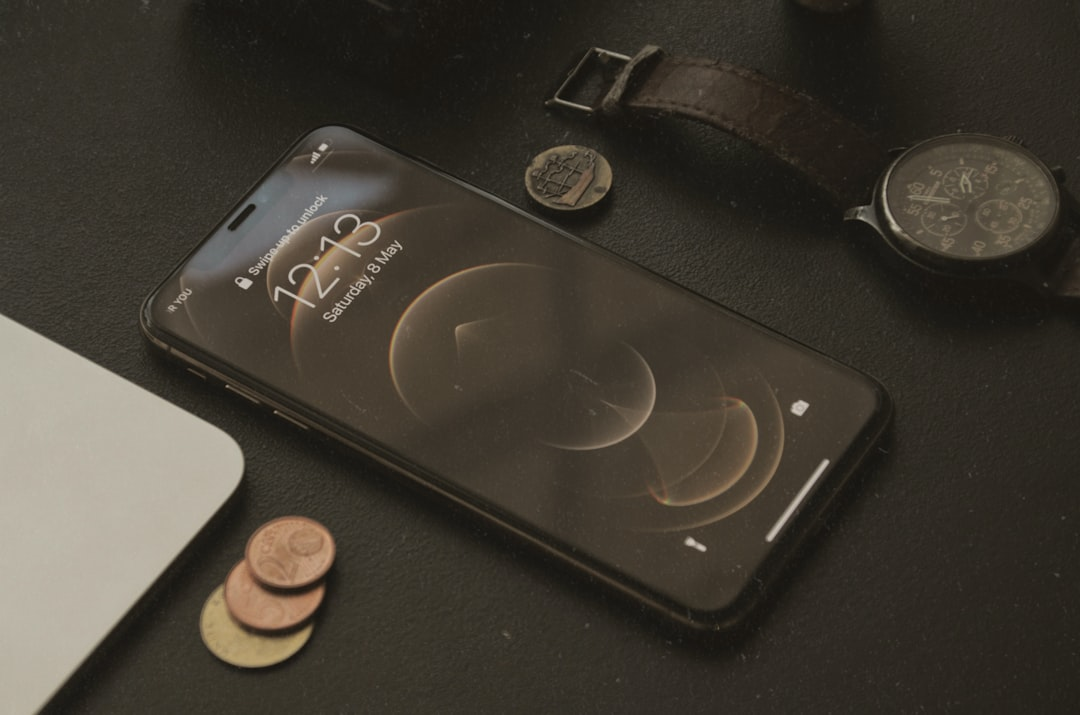phone: (136, 120, 895, 652)
